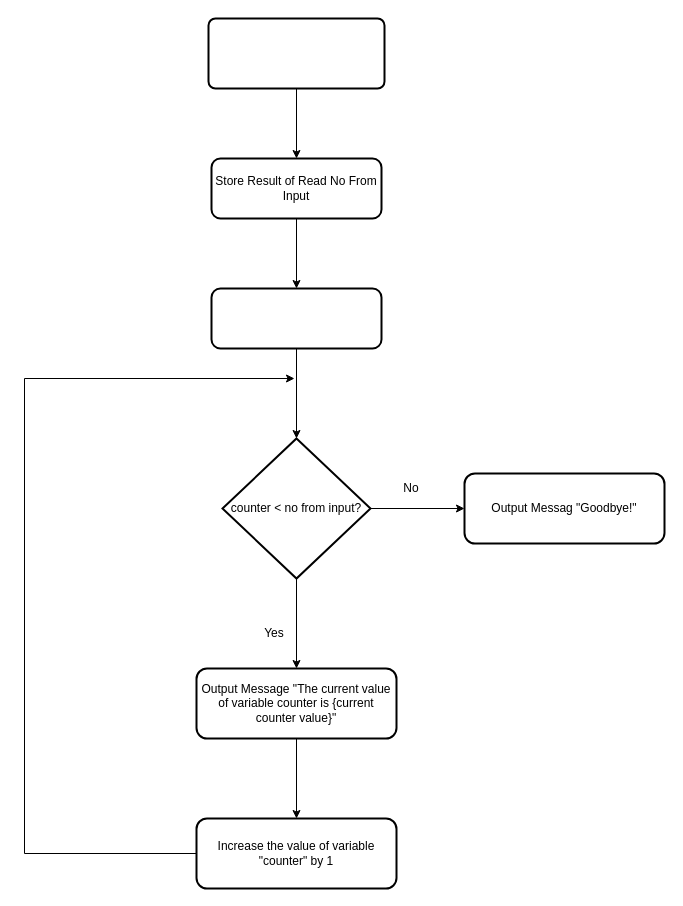
This 683x906 diagram has some shape labels left out. Each missing label, with the centre of its shape:
Read No From Input With Message "Please input a number": the point at 296,53
Store 0 as the value of variable "counter": the point at 296,318
